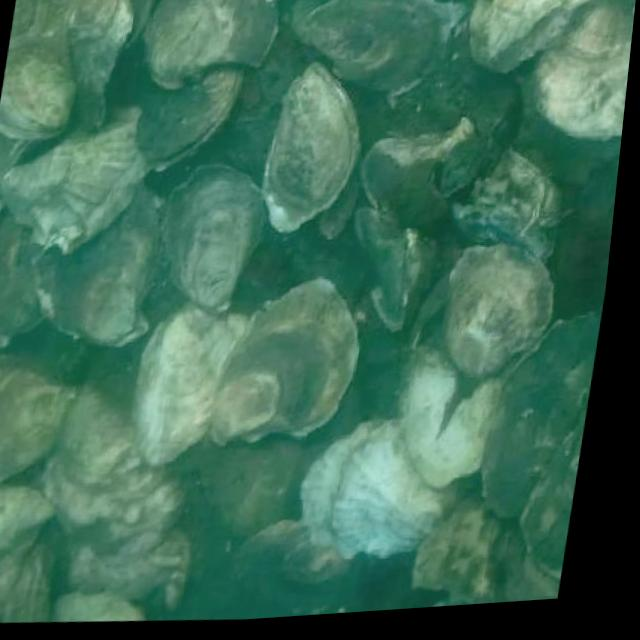Oyster-Indeterminate: (45, 387, 186, 561), (213, 281, 360, 447), (483, 314, 601, 518), (302, 421, 462, 554), (0, 105, 142, 251), (35, 184, 159, 344), (134, 302, 255, 465), (413, 470, 560, 603), (264, 63, 362, 234), (306, 0, 466, 95), (164, 165, 266, 314), (445, 246, 554, 375), (537, 0, 633, 139), (448, 147, 561, 257), (144, 0, 278, 84), (60, 527, 191, 606), (206, 439, 308, 536), (240, 518, 349, 607), (526, 424, 584, 578), (0, 358, 73, 480), (468, 0, 590, 72), (66, 0, 131, 134), (356, 208, 426, 329), (0, 483, 54, 602), (0, 207, 41, 331), (0, 548, 50, 623), (9, 0, 66, 43), (60, 0, 121, 33), (0, 137, 31, 180)
Oyster-Open: (135, 65, 243, 172), (0, 32, 80, 140)
